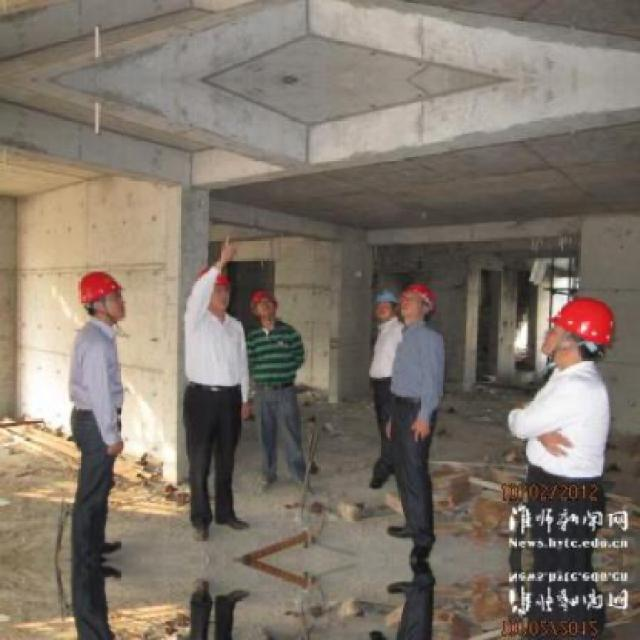helmet: (538, 297, 622, 372), (74, 268, 131, 328), (198, 266, 237, 317), (401, 282, 437, 323), (249, 285, 286, 320), (369, 286, 398, 323)
